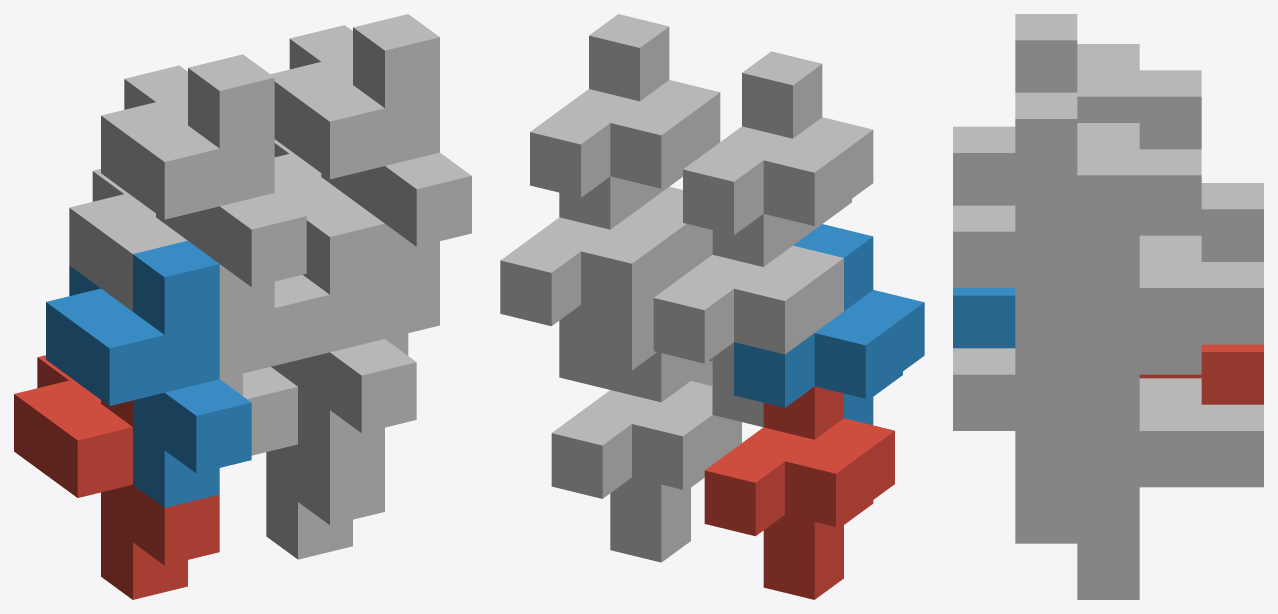
The model's file is tiling.obj.
3 renders of one model, left to right at view 1: azimuth 30°, elevation 25°; view 2: azimuth 150°, elevation 25°; view 3: azimuth 270°, elevation 25°, orthographic. The views are drawn at different scales.
Parts seen in each view (by area): view 1: copy_1_domain_4, copy_1_domain_2, copy_1_domain_8, copy_1_domain_6, copy_1_domain_1, copy_1_domain_5, copy_1_domain_3, copy_1_domain_7; view 2: copy_1_domain_1, copy_1_domain_5, copy_1_domain_4, copy_1_domain_8, copy_1_domain_3, copy_1_domain_7, copy_1_domain_2, copy_1_domain_6; view 3: copy_1_domain_8, copy_1_domain_7, copy_1_domain_5, copy_1_domain_4, copy_1_domain_6, copy_1_domain_3, copy_1_domain_1, copy_1_domain_2.
Boxes of the visible parts, left/top/right/bottom form: copy_1_domain_4: left=101, top=54, right=306, bottom=321; copy_1_domain_2: left=46, top=240, right=251, bottom=507; copy_1_domain_8: left=270, top=14, right=471, bottom=280; copy_1_domain_6: left=274, top=200, right=416, bottom=467; copy_1_domain_1: left=14, top=355, right=219, bottom=599; copy_1_domain_5: left=243, top=360, right=384, bottom=559; copy_1_domain_3: left=69, top=169, right=274, bottom=395; copy_1_domain_7: left=274, top=139, right=439, bottom=355; copy_1_domain_1: left=704, top=386, right=894, bottom=599; copy_1_domain_5: left=551, top=352, right=741, bottom=562; copy_1_domain_4: left=683, top=51, right=873, bottom=245; copy_1_domain_8: left=530, top=14, right=720, bottom=207; copy_1_domain_3: left=653, top=213, right=843, bottom=427; copy_1_domain_7: left=500, top=176, right=690, bottom=389; copy_1_domain_2: left=734, top=224, right=924, bottom=425; copy_1_domain_6: left=581, top=186, right=712, bottom=385; copy_1_domain_8: left=953, top=92, right=1201, bottom=344; copy_1_domain_7: left=1015, top=231, right=1263, bottom=457; copy_1_domain_5: left=1015, top=378, right=1263, bottom=599; copy_1_domain_4: left=953, top=14, right=1201, bottom=205; copy_1_domain_6: left=953, top=344, right=1201, bottom=487; copy_1_domain_3: left=1139, top=183, right=1263, bottom=261; copy_1_domain_1: left=1139, top=344, right=1263, bottom=404; copy_1_domain_2: left=953, top=288, right=1015, bottom=348.
Size of the model in its own units: 6 by 9 by 5.
